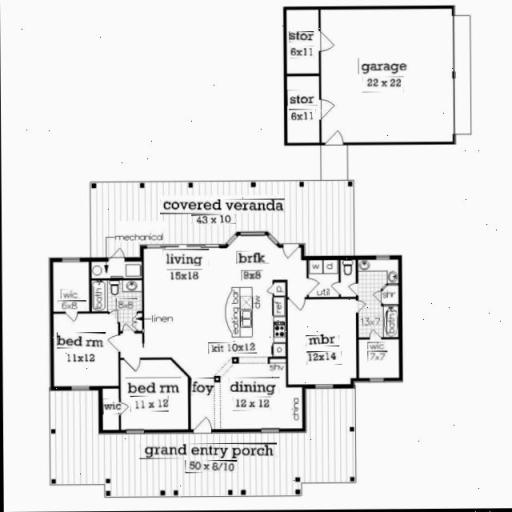Room: (210, 370, 302, 430)
bathroom: (325, 262, 405, 308), (99, 279, 146, 318)
bedroom: (117, 366, 191, 434), (54, 322, 116, 391), (293, 310, 354, 380)
garage: (328, 18, 462, 142)
hall: (149, 246, 227, 354)
porch: (59, 435, 372, 489)
